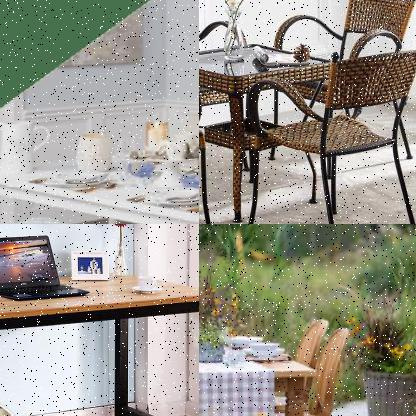table: (0, 259, 198, 415), (199, 40, 350, 223), (0, 143, 198, 223), (199, 333, 321, 415)
